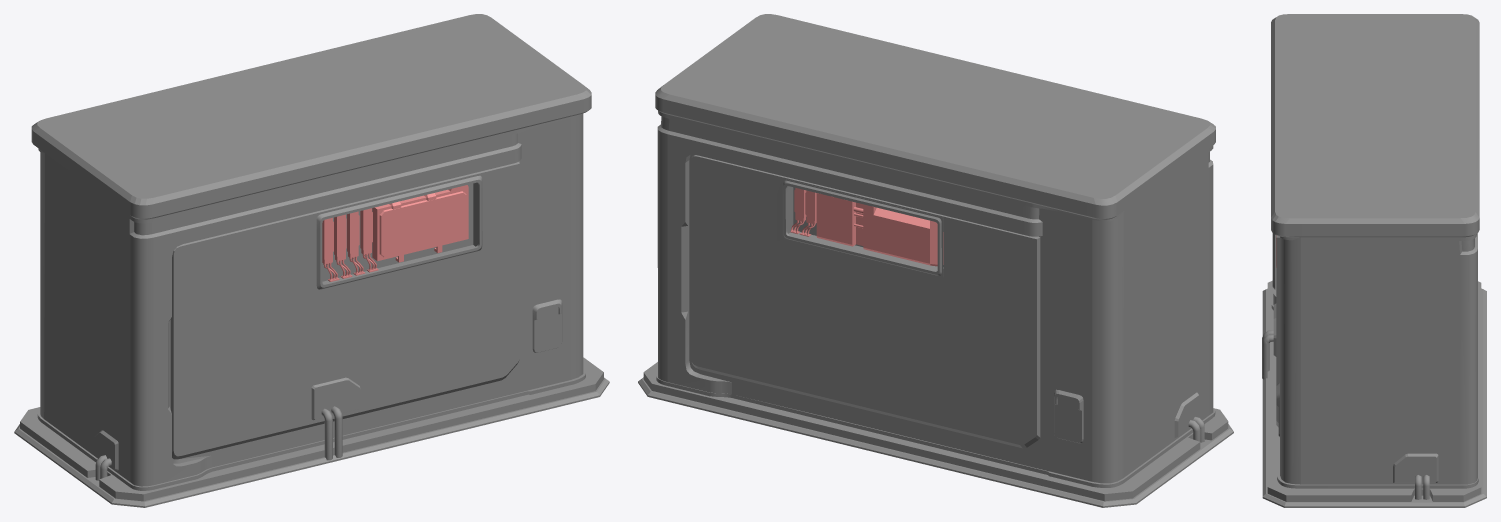
The model's file is S_Envi_FZFBase_Transformer_01b.gltf.
3 views of the same model, side by side, from view 1: azimuth 30°, elevation 25°; view 2: azimuth 150°, elevation 25°; view 3: azimuth 270°, elevation 25° (orthographic). The views are drawn at different scales.
Parts seen in each view (by area): view 1: S_Envi_FZFBase_Transformer_01b; view 2: S_Envi_FZFBase_Transformer_01b; view 3: S_Envi_FZFBase_Transformer_01b.
Part boxes in pixels (x1=…): S_Envi_FZFBase_Transformer_01b: x1=14, y1=14, x2=609, y2=507; S_Envi_FZFBase_Transformer_01b: x1=638, y1=14, x2=1233, y2=507; S_Envi_FZFBase_Transformer_01b: x1=1262, y1=14, x2=1486, y2=507.
Size of the model in its own units: 6.91 by 4 by 2.91.
